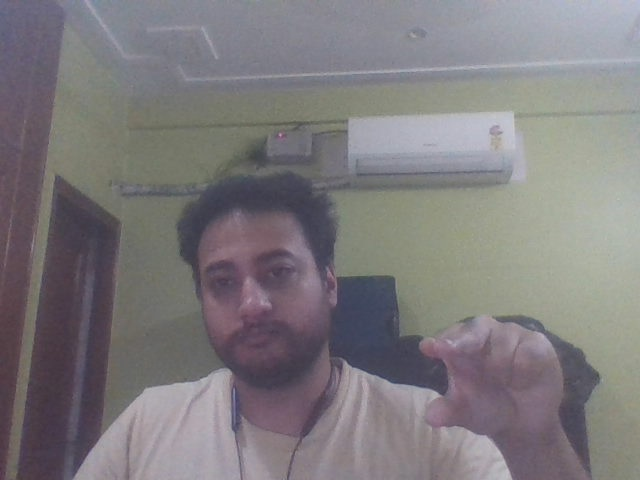No: (408, 302, 587, 452)
